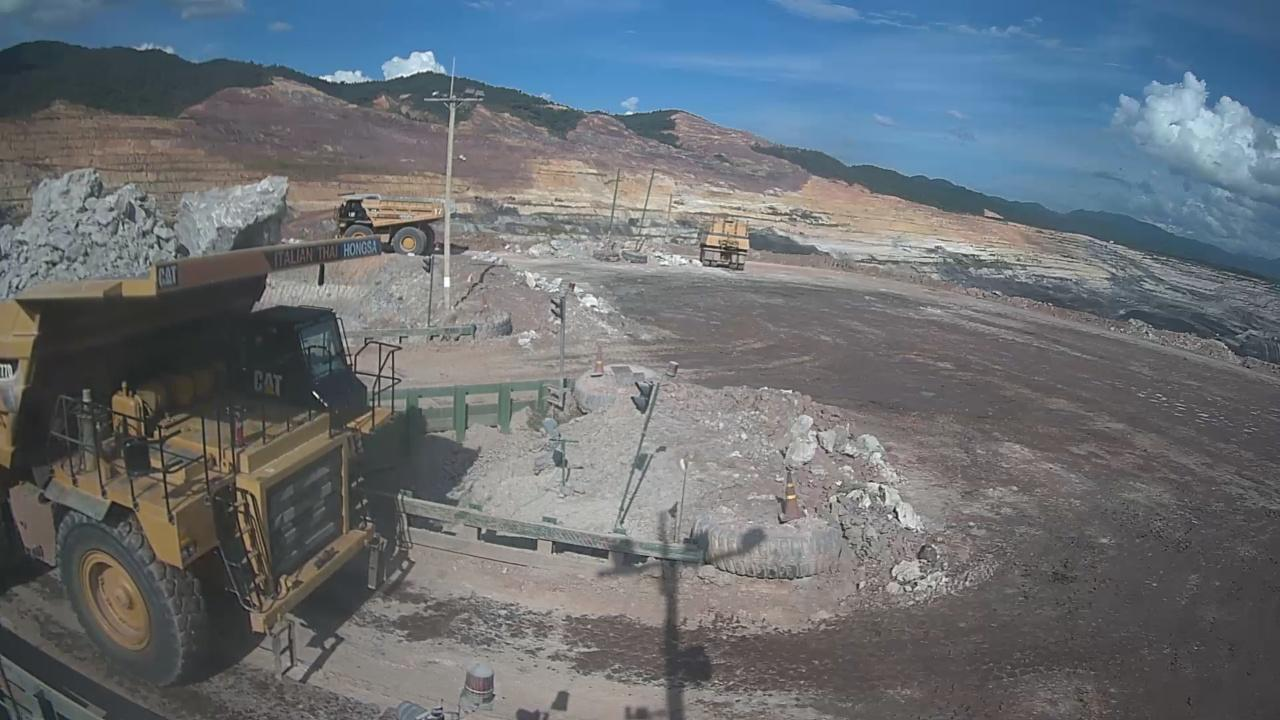front_number: (273, 463, 350, 570)
full_load: (17, 168, 297, 291)
mining_truck: (1, 137, 420, 696)
